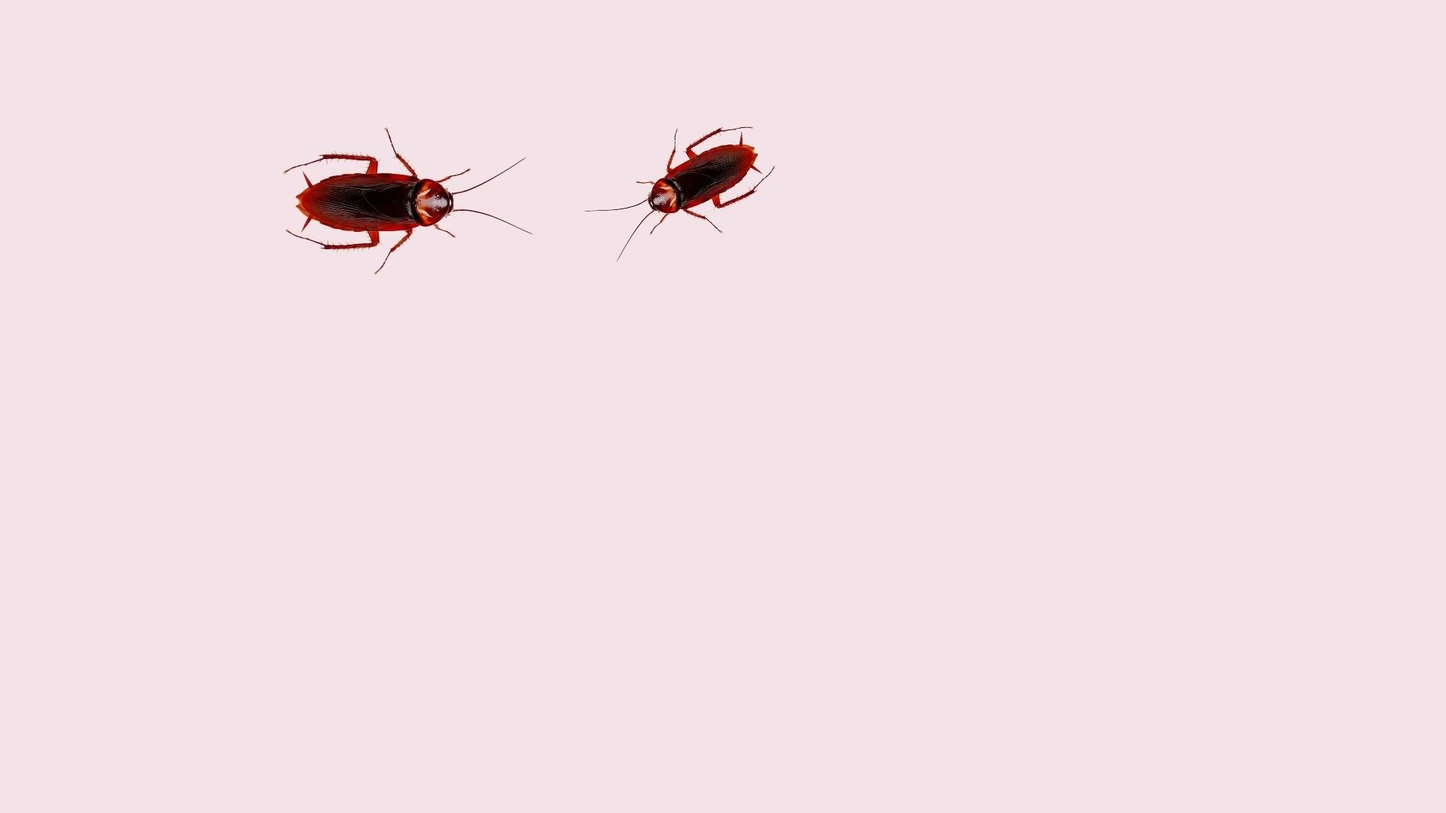cockroach: (283, 142, 524, 259), (648, 132, 760, 232)
